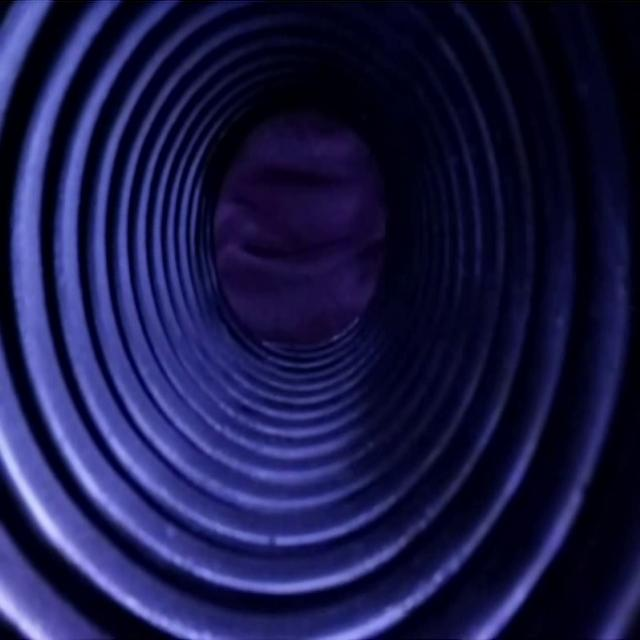block: (219, 127, 380, 348)
